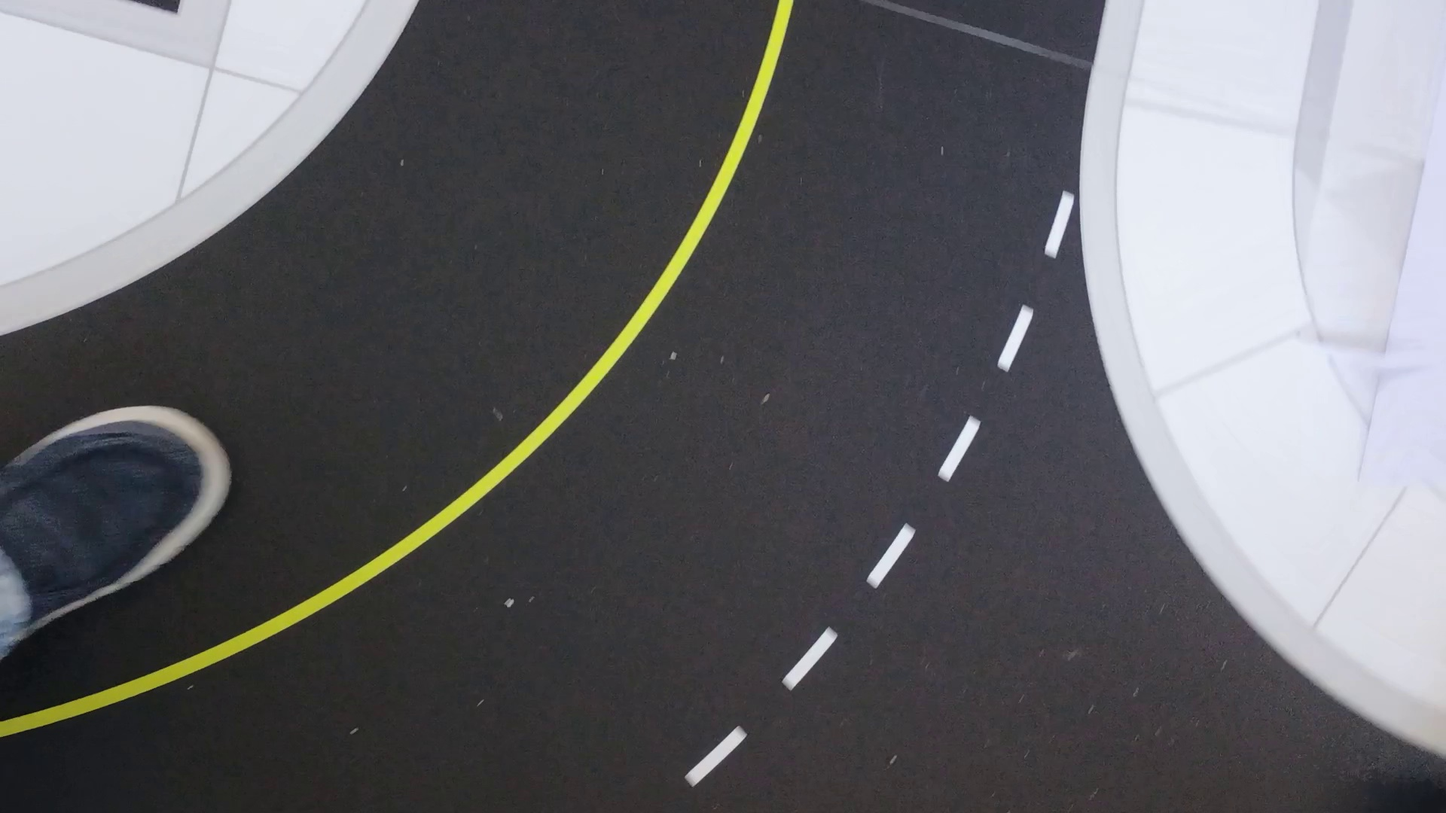Dashed: (685, 726, 746, 785), (782, 628, 837, 690), (867, 523, 914, 587), (939, 418, 979, 481), (999, 306, 1033, 371), (1045, 191, 1074, 257)
Solid: (0, 0, 792, 738)
Street: (0, 0, 1445, 812), (0, 0, 792, 737), (0, 0, 776, 718), (130, 0, 179, 12)
